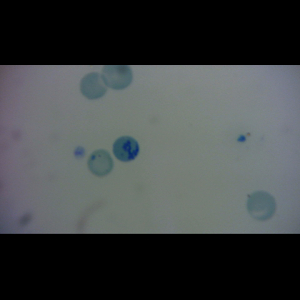aggregate reticulocyte: (111, 135, 141, 163)
erythrocyte: (245, 190, 279, 222), (99, 65, 135, 92), (79, 72, 111, 101), (86, 148, 116, 178)
